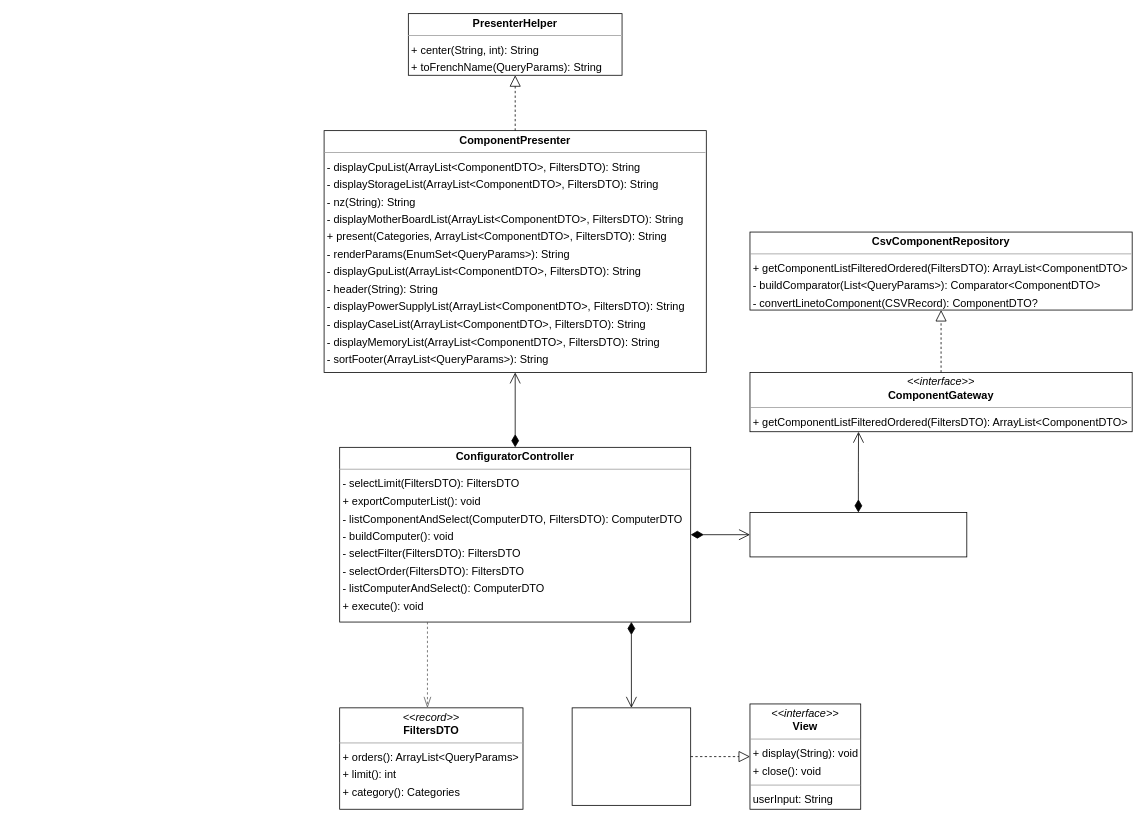
Some shapes in this 1146 by 823 pixel diagram are drawn without their labels. Each missing label, with the centre of its shape:
"ConsoleView + display(String): void + close(): void userInput: String" goes at (x=631, y=756).
"ListComponentUseCase + execute(FiltersDTO): ArrayList<ComponentDTO>" goes at (x=858, y=534).
